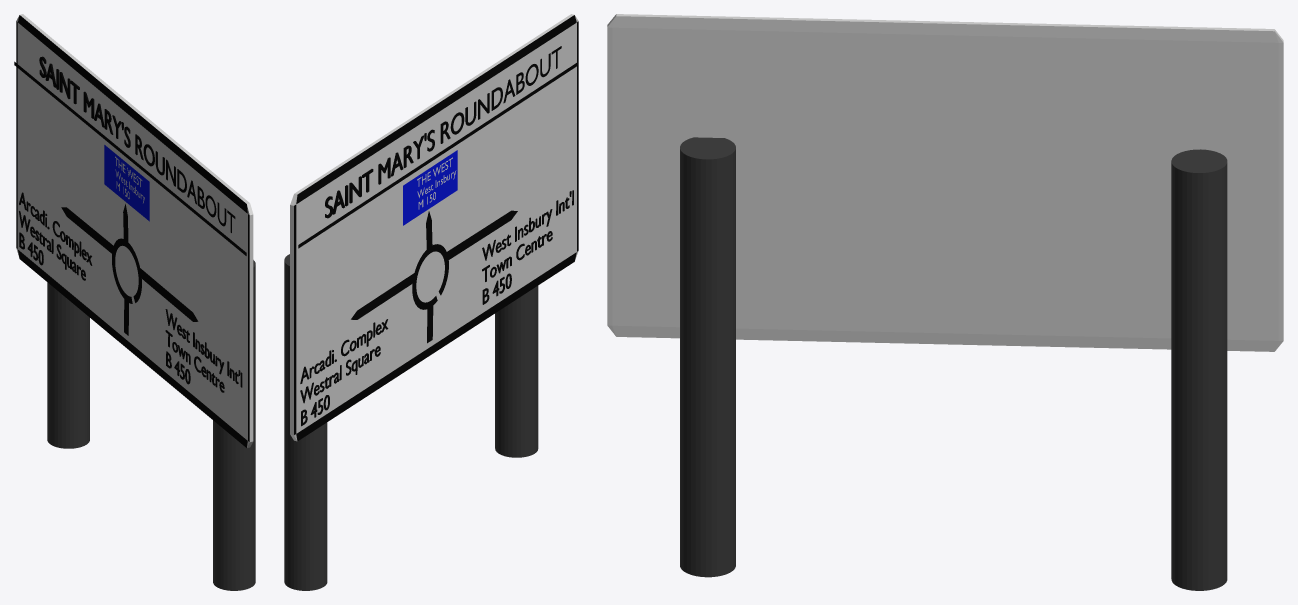
File: RoundaboutSignSTR1.fbx
3 views of the same model, side by side, from view 1: azimuth 30°, elevation 25°; view 2: azimuth 150°, elevation 25°; view 3: azimuth 270°, elevation 25° (orthographic). The views are drawn at different scales.
Visible parts, largest first — view 1: Cube.030, Cylinder.001, Cylinder.002, Text.007, Motorway, Text.011, Text.012, DashedLine, Roundel, RightArrow, LeftArrow; view 2: Cube.030, Cylinder.002, Cylinder.001, Text.007, Motorway, Text.011, Text.012, DashedLine, Roundel, RightArrow, LeftArrow; view 3: Cube.030, Cylinder.002, Cylinder.001.
Part boxes in pixels (left/top/right/bottom): Cube.030: left=16, top=14, right=253, bottom=447; Cylinder.001: left=213, top=260, right=255, bottom=590; Cylinder.002: left=47, top=282, right=89, bottom=448; Text.007: left=39, top=56, right=235, bottom=232; Motorway: left=104, top=145, right=149, bottom=221; Text.011: left=19, top=192, right=92, bottom=280; Text.012: left=165, top=309, right=242, bottom=392; DashedLine: left=14, top=61, right=246, bottom=255; Roundel: left=112, top=238, right=141, bottom=303; RightArrow: left=139, top=267, right=198, bottom=321; LeftArrow: left=61, top=207, right=113, bottom=253; Cube.030: left=290, top=14, right=578, bottom=441; Cylinder.002: left=284, top=254, right=327, bottom=590; Cylinder.001: left=495, top=286, right=538, bottom=457; Text.007: left=325, top=46, right=561, bottom=218; Motorway: left=403, top=150, right=457, bottom=225; Text.011: left=300, top=319, right=388, bottom=426; Text.012: left=482, top=190, right=573, bottom=304; DashedLine: left=298, top=62, right=577, bottom=248; Roundel: left=412, top=244, right=448, bottom=309; RightArrow: left=446, top=210, right=517, bottom=261; LeftArrow: left=351, top=273, right=414, bottom=319; Cube.030: left=607, top=14, right=1283, bottom=351; Cylinder.002: left=1171, top=149, right=1227, bottom=590; Cylinder.001: left=680, top=137, right=735, bottom=577.
Bounding box in the file's own units: 111 × 670 × 765.
